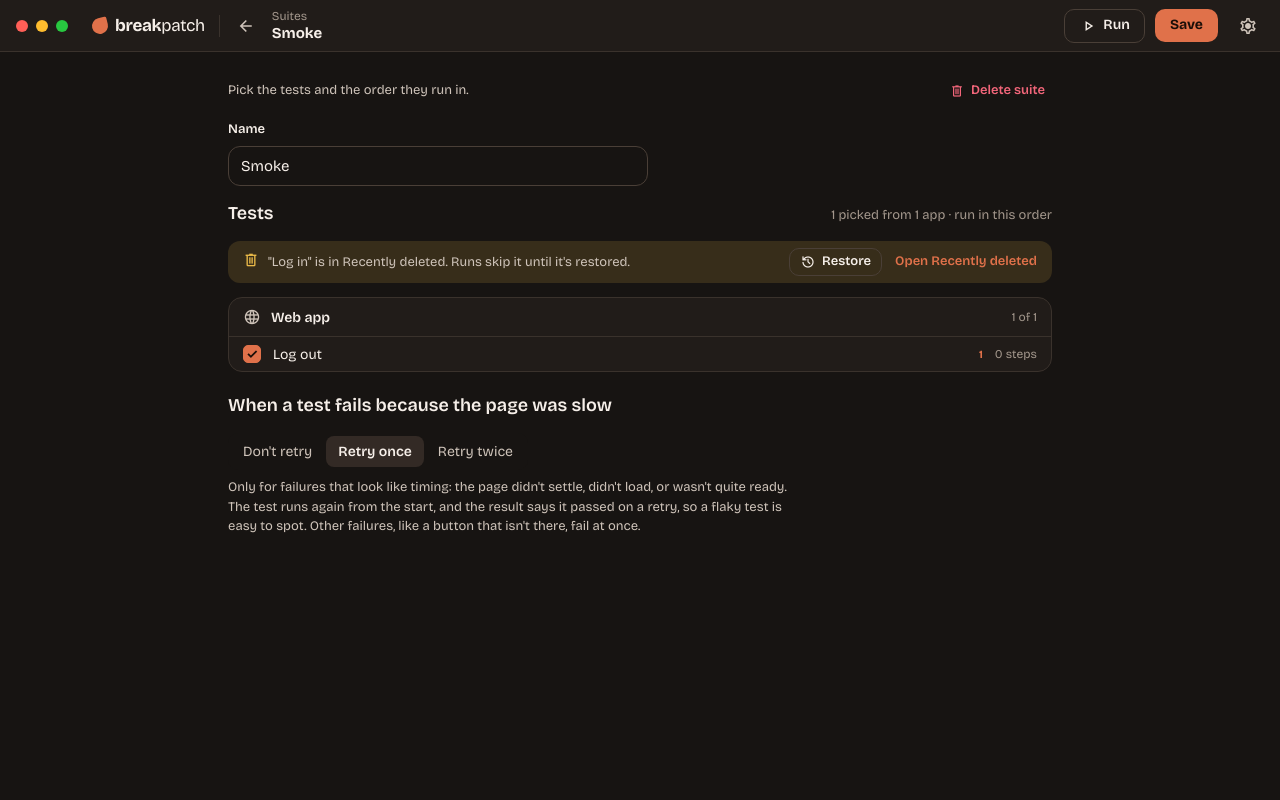
Test: Suite editor: tests in Recently deleted › names them, and Restore puts them back
Expected: the text "\"Log in\" is in Recently deleted." is shown, left=268, top=254, right=448, bottom=270
Expected: the button "Open Recently deleted" is shown, left=888, top=248, right=1044, bottom=276
Click the button "Restore" at [836, 262], box left=789, top=248, right=882, bottom=276
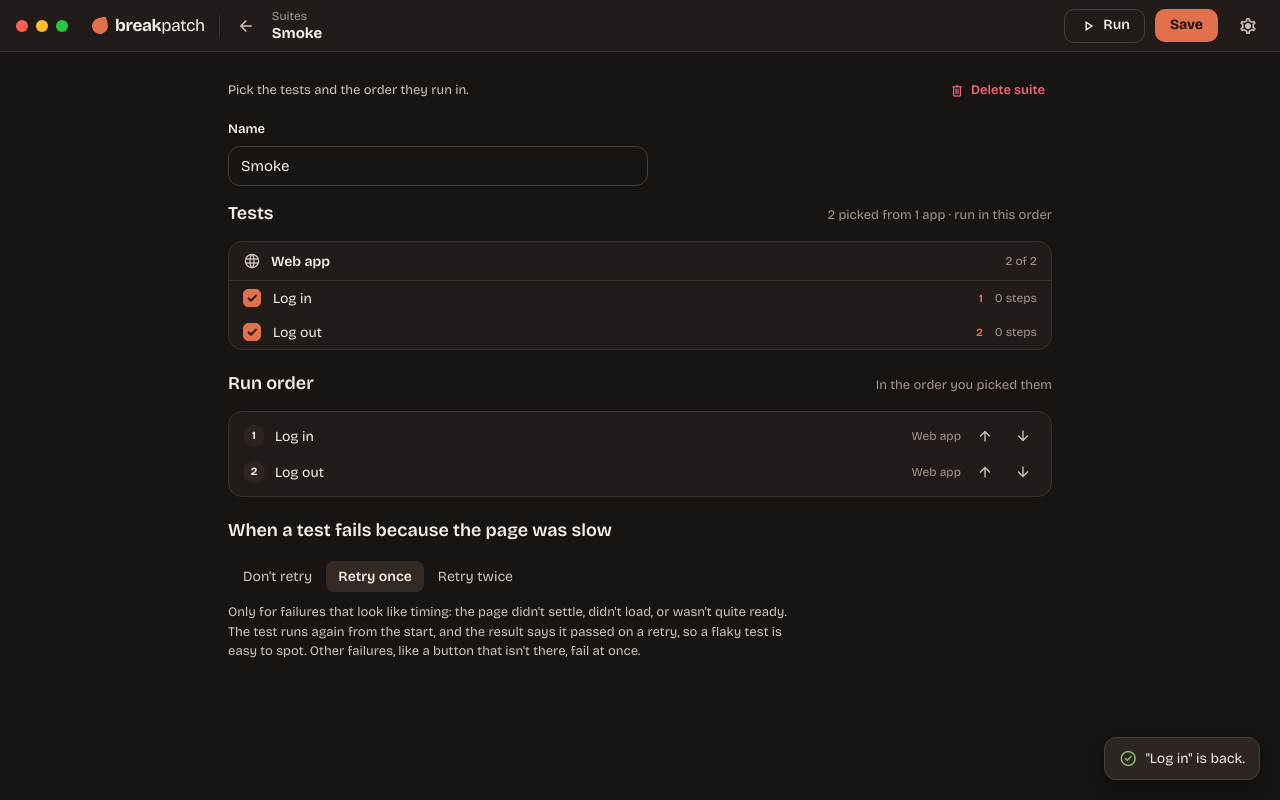
Now the text "is in Recently deleted" is gone
